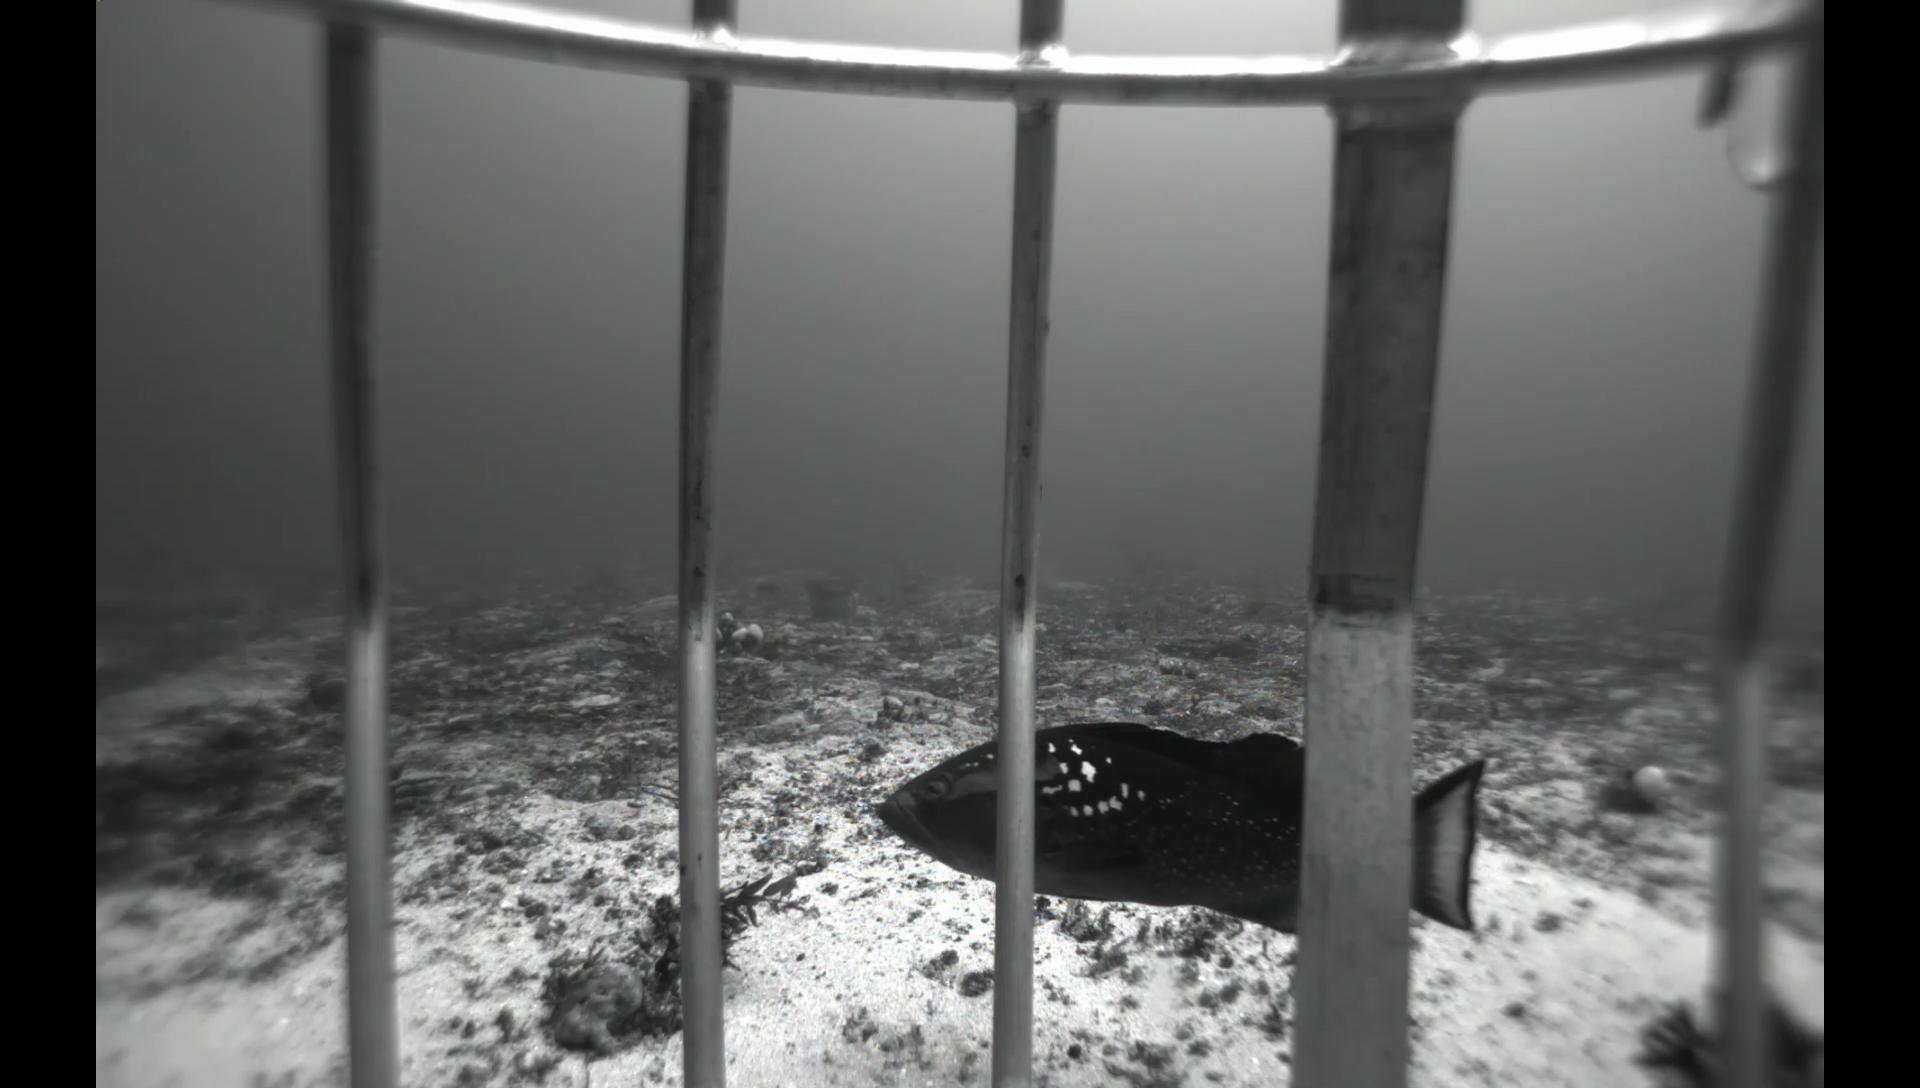CHAETODONOCELLATUS-170260307: (1494, 588, 1534, 617), (1414, 580, 1437, 601)
EPINEPHELUSMORIO-170021211: (872, 708, 1501, 952)
PRISTIGENYSALTA-170050401: (295, 675, 345, 717)
